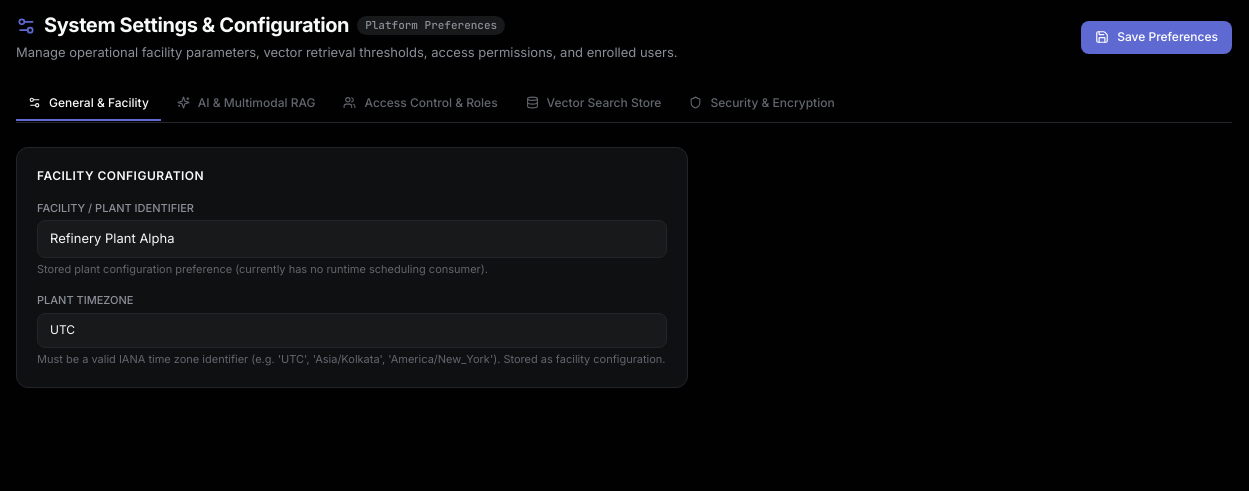
Test: Stage 3 Web UI & Data-Integrity Tests › 2. Settings Persistence & Model Allowlist › loads saved settings and populates form fields and model select options
Expected: the field showing "Refinery Plant Alpha" below "Facility / Plant Identifier" is shown, [37,220,667,258]
Expected: the field showing "UTC" below "Plant Timezone" is shown, [37,313,667,348]
# Switch to AI tab
Click the button "AI & Multimodal RAG": (246, 104) [165,86,328,121]
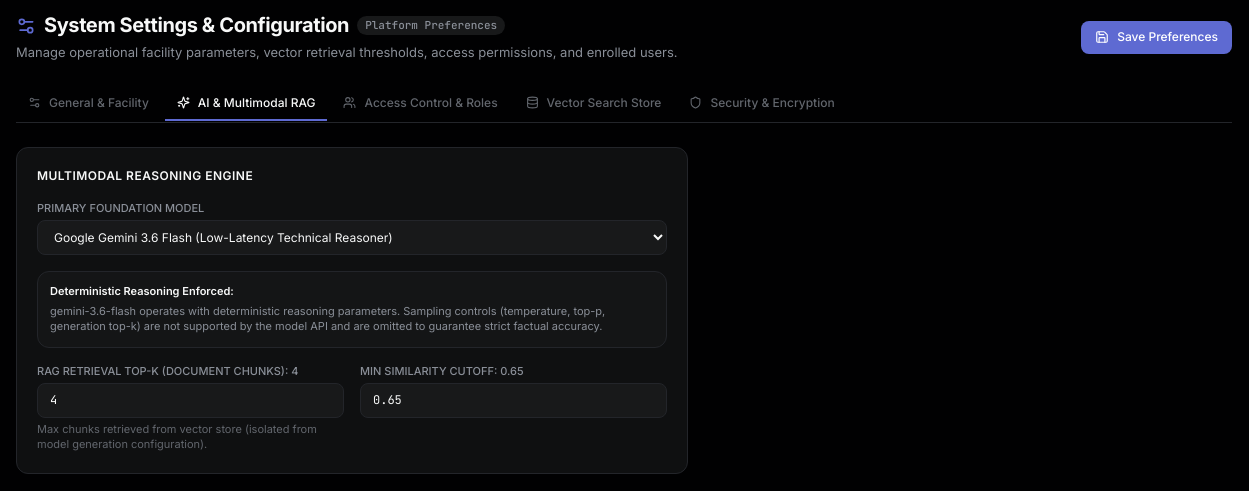
Now the dropdown showing "Google Gemini 3.6 Flash" is shown, box [37,220,667,256]
